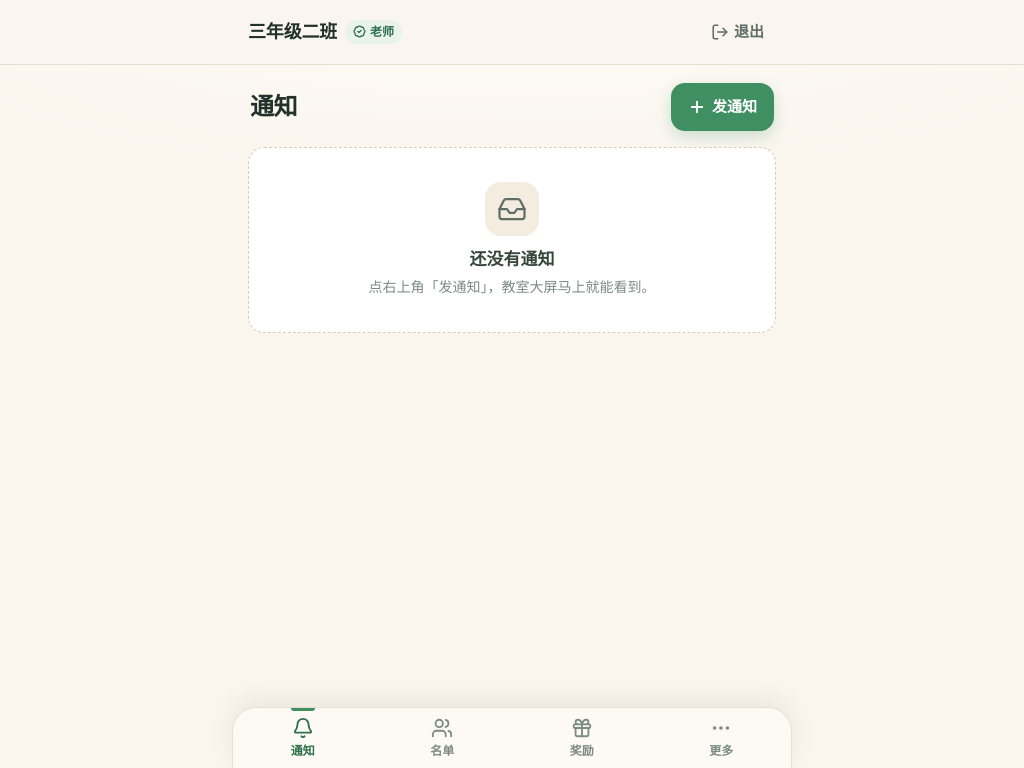
it: 老师手机版 › TestCreatesNotice
expect the text "三年级二班" is shown: met, box top-left (248, 18), bottom-right (337, 46)
Click the button "发通知" at (722, 107), box top-left (671, 83), bottom-right (774, 131)
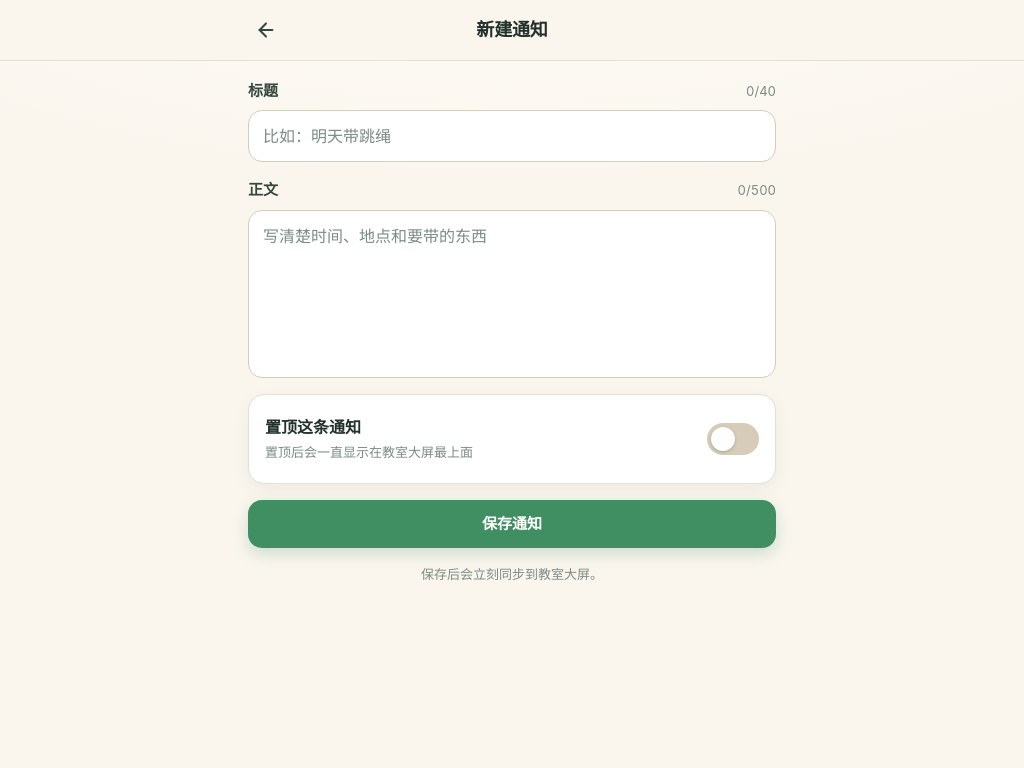
Type "明天带跳绳" into the field named "通知标题" at (512, 136), box top-left (248, 110), bottom-right (776, 162)
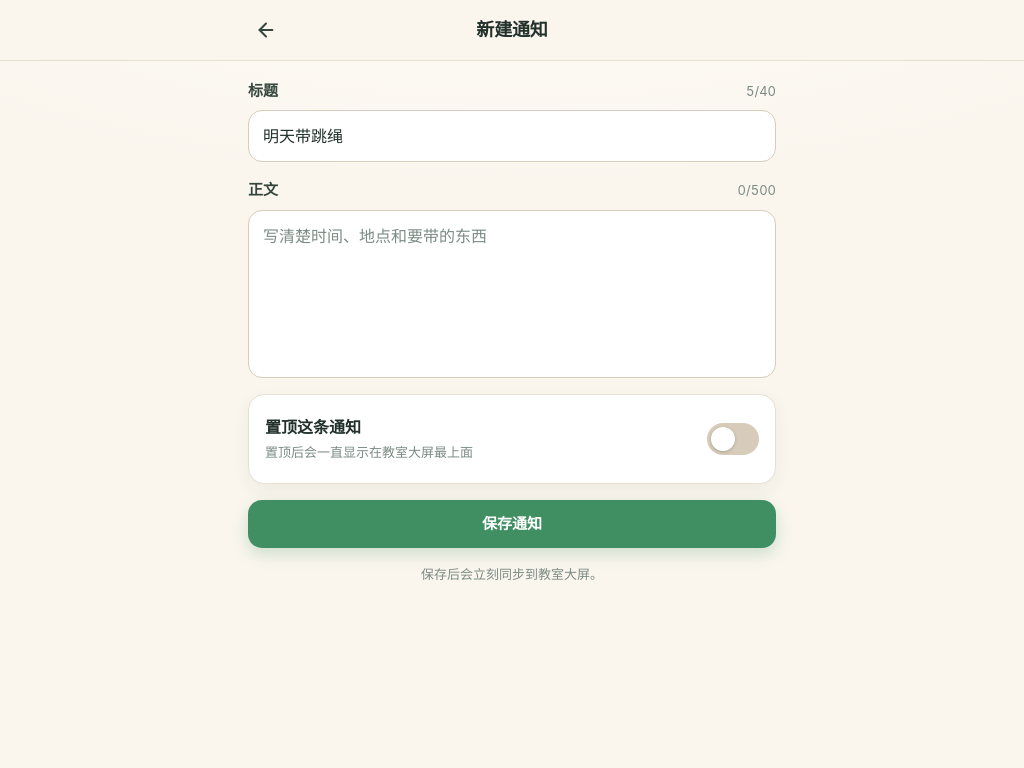
Type "第一节课后到操场集合。" into the text box named "通知正文" at (512, 294), box top-left (248, 210), bottom-right (776, 378)
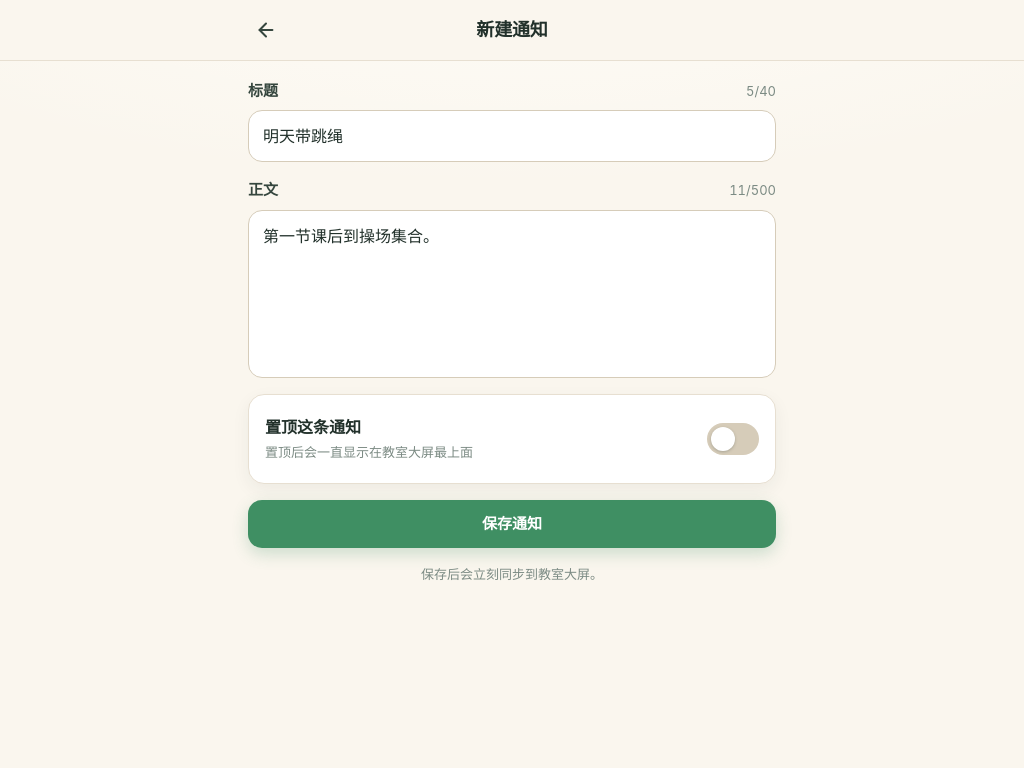
Click the button "保存通知" at (512, 524), box top-left (248, 500), bottom-right (776, 548)
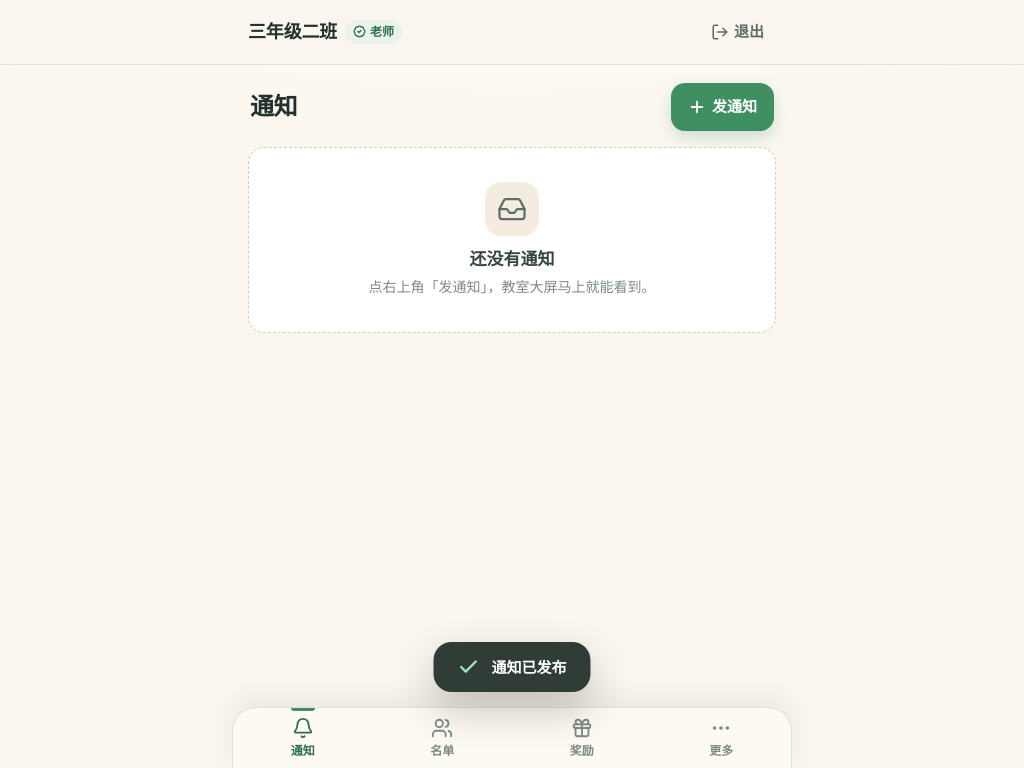
expect the text "通知已发布" is shown: met, box top-left (492, 656), bottom-right (566, 678)
expect the button "发通知" is shown: met, box top-left (671, 83), bottom-right (774, 131)
